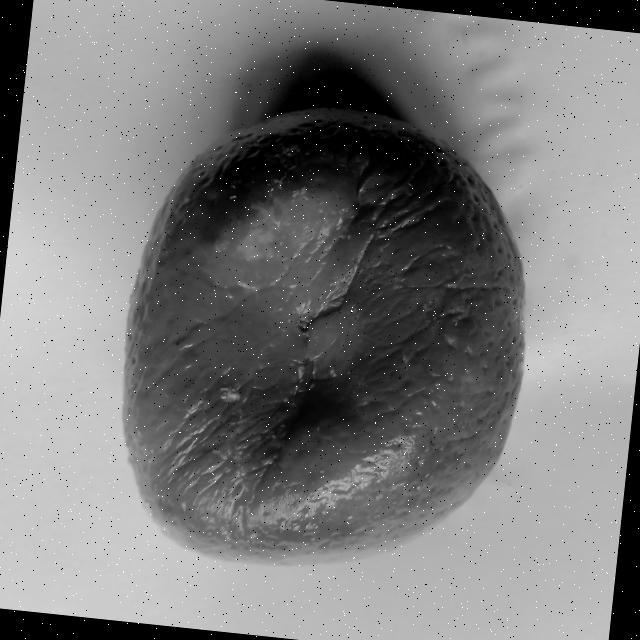Rotten: (99, 84, 550, 592)
